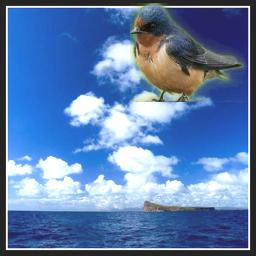Swallow: (130, 3, 247, 102)
